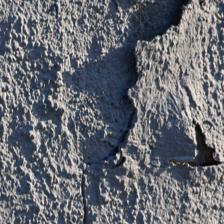Crack: (11, 10, 172, 60), (108, 133, 192, 224)
